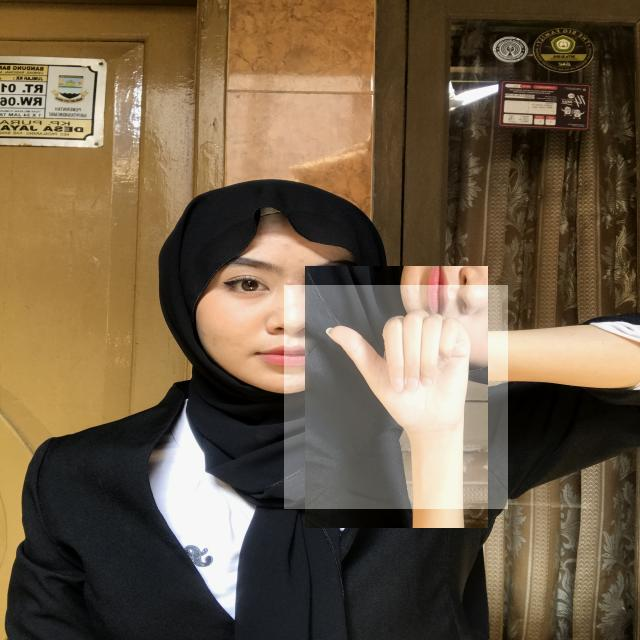sedih: (284, 285, 508, 509)
